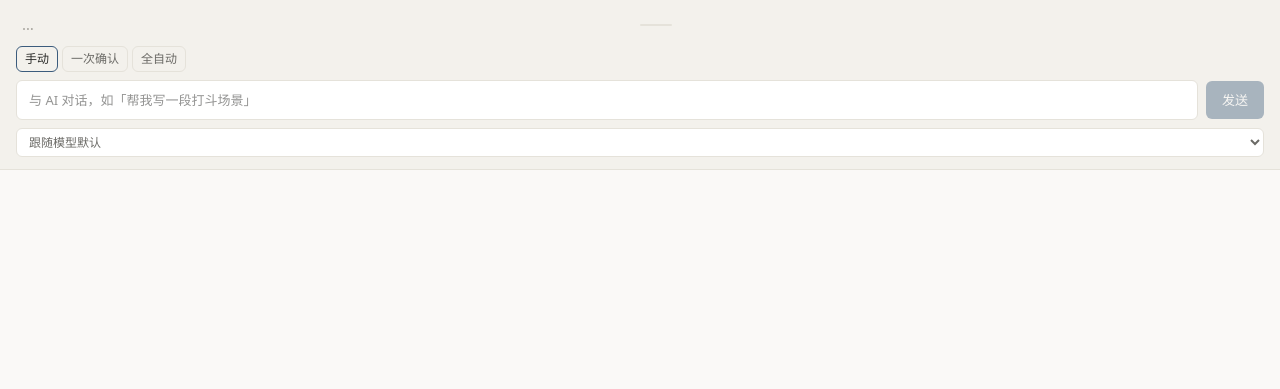
Test: ChatPanel chat-UX — 发送/中断按钮切换（#719） › 流式运行中点击中断 → 调 abortChatRun(run_id) + 恢复发送态
The width and height of the screenshot is (1280, 389).
Type "中断测试" into the text box with test id "chat-input".
click(607, 100); type("中断测试")  # box x1=16 y1=80 x2=1198 y2=120
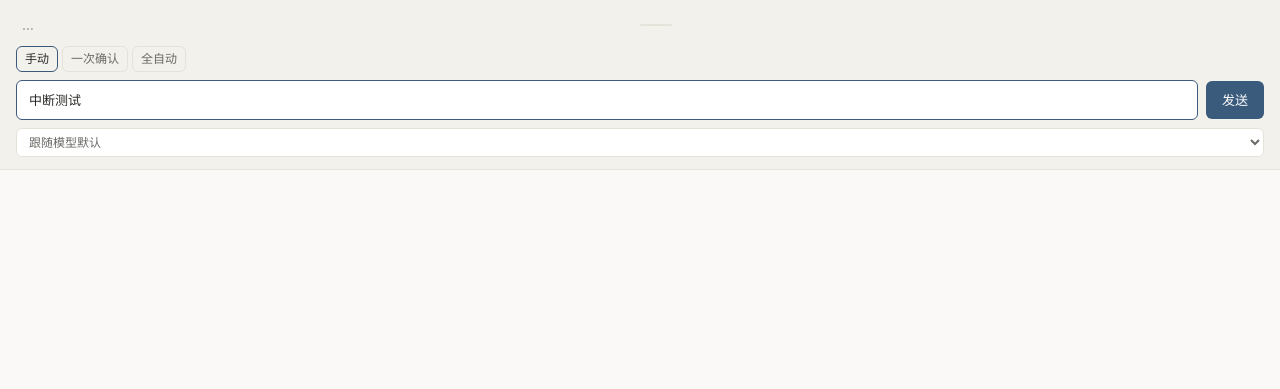
Click the button with test id "chat-send".
click(1235, 100)  # box x1=1206 y1=81 x2=1264 y2=119
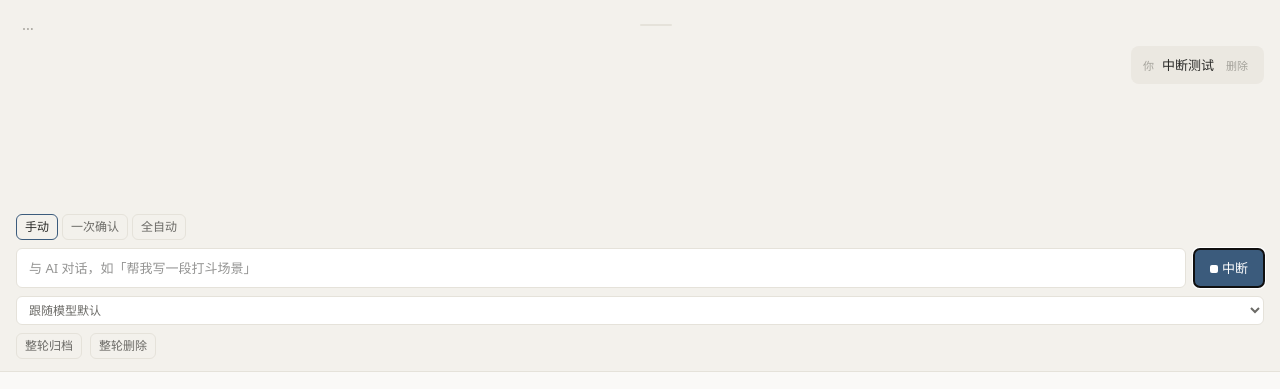
Click the button with test id "chat-interrupt".
click(1229, 268)  # box x1=1194 y1=249 x2=1264 y2=287
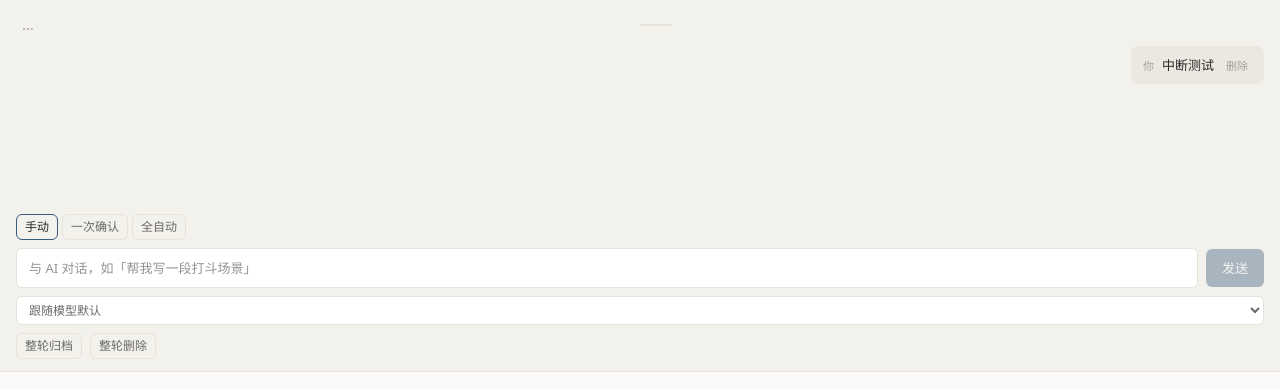
Expected: the button with test id "chat-send" is shown, x1=1206 y1=249 x2=1264 y2=287
